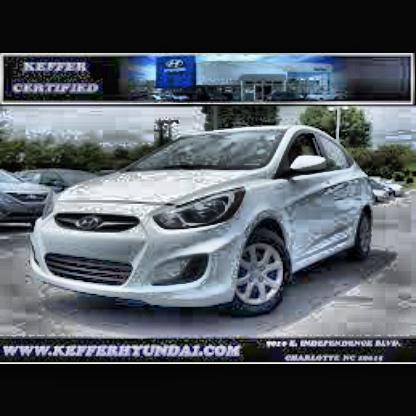Hyundai Accent Sedan 2012: (33, 125, 376, 319)
